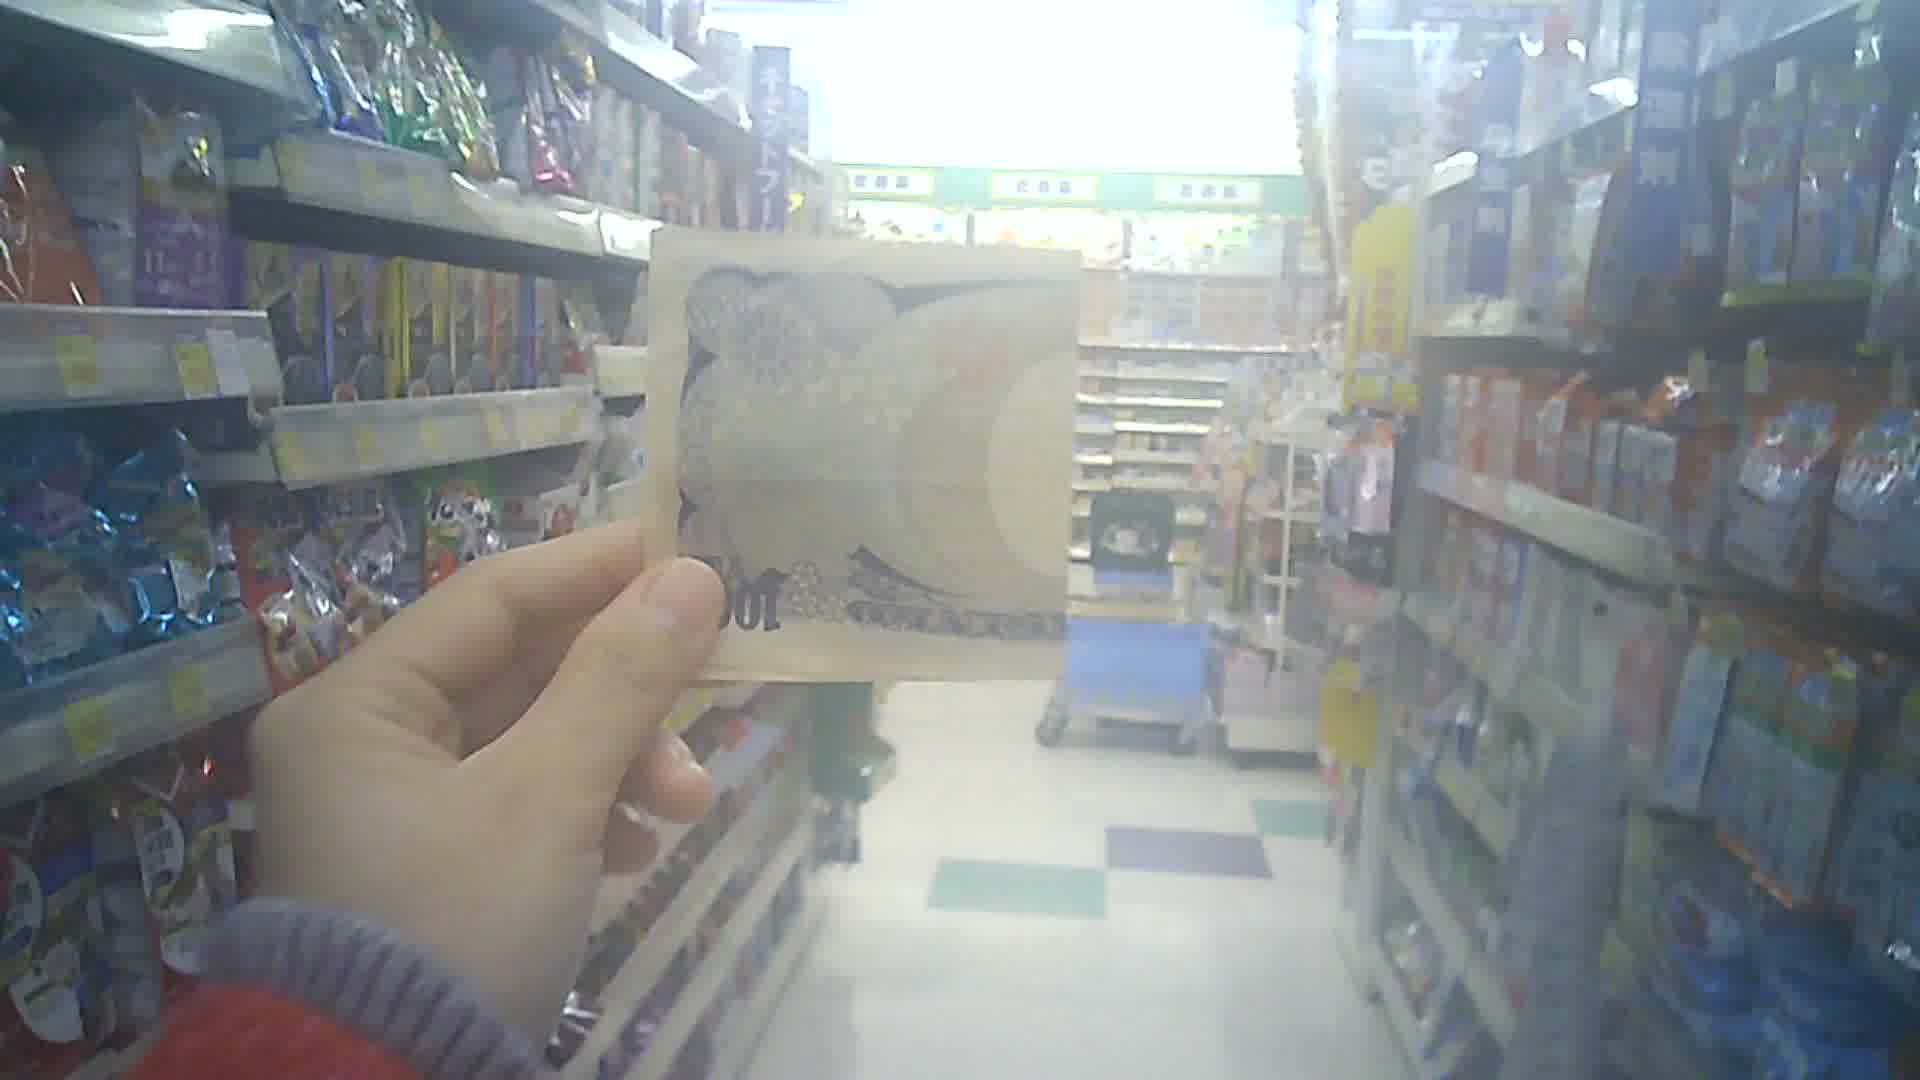1,000 Yen: (618, 219, 1072, 682)
